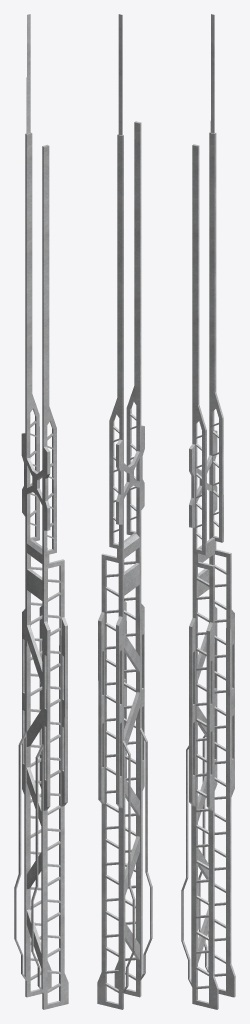
Rendered from KB3D_NEC_BldgLG_C_AntennaD.glb.
3 views of the same model, side by side, from view 1: azimuth 30°, elevation 25°; view 2: azimuth 150°, elevation 25°; view 3: azimuth 330°, elevation 25° (orthographic).
Visible parts, largest first — view 1: KB3D_NEC_BldgLG_C_AntennaD; view 2: KB3D_NEC_BldgLG_C_AntennaD; view 3: KB3D_NEC_BldgLG_C_AntennaD.
Boxes of the visible parts, box(x1,y1,x2,y2) form: KB3D_NEC_BldgLG_C_AntennaD: box(14, 14, 68, 1009); KB3D_NEC_BldgLG_C_AntennaD: box(97, 14, 152, 1009); KB3D_NEC_BldgLG_C_AntennaD: box(181, 14, 235, 1009).
Bounding box in the file's own units: 0.7978 × 20.75 × 0.9751.
Materials: 1 (1 with a texture image).
